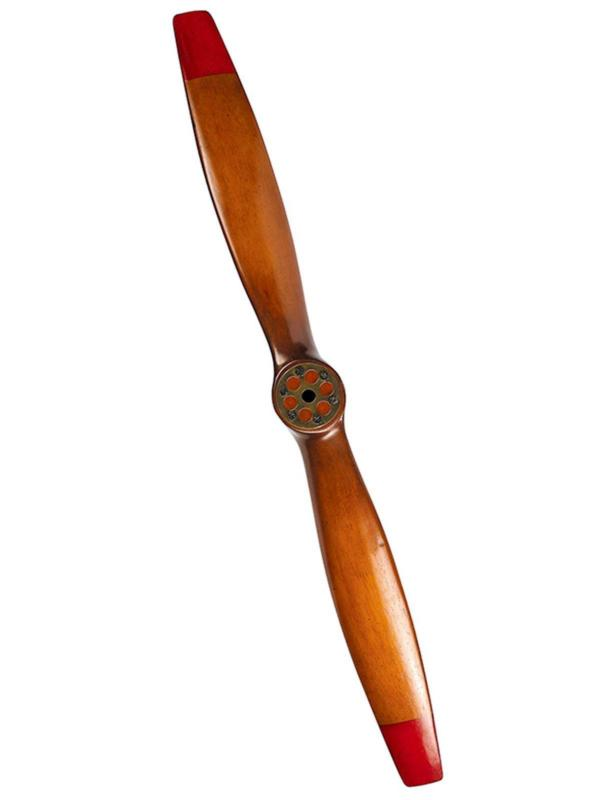Propeller: (166, 5, 450, 789)
